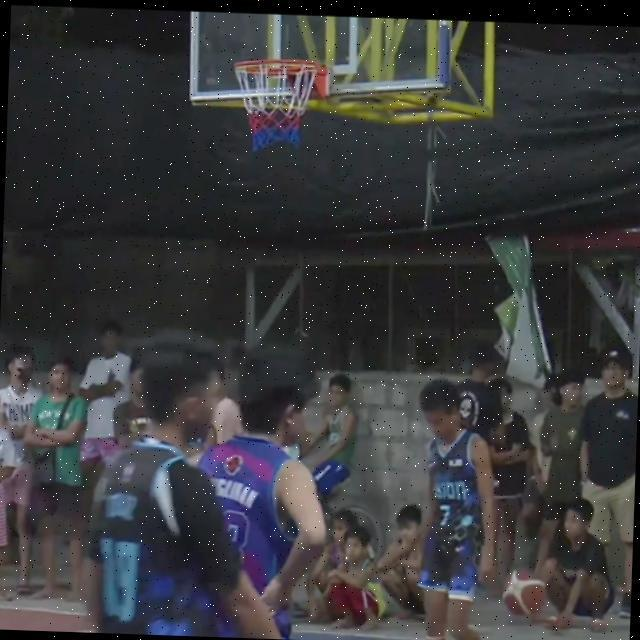ball: (497, 562, 552, 628)
hoop: (230, 59, 324, 75)
